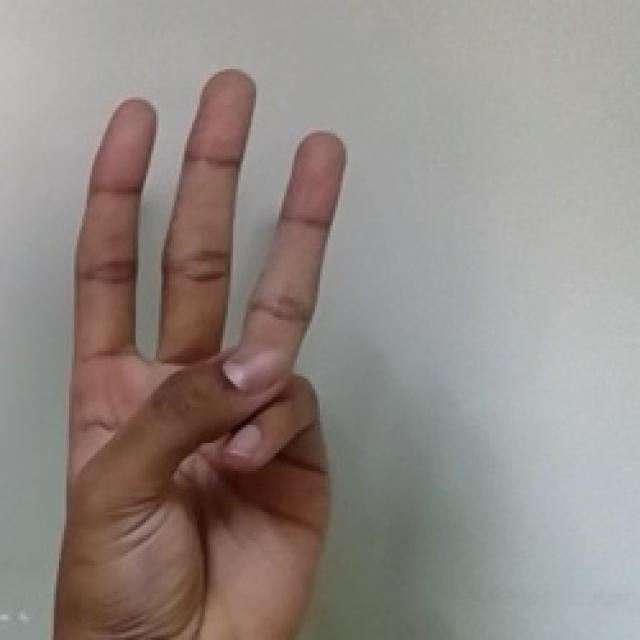Numeric-6: (64, 53, 350, 624)
